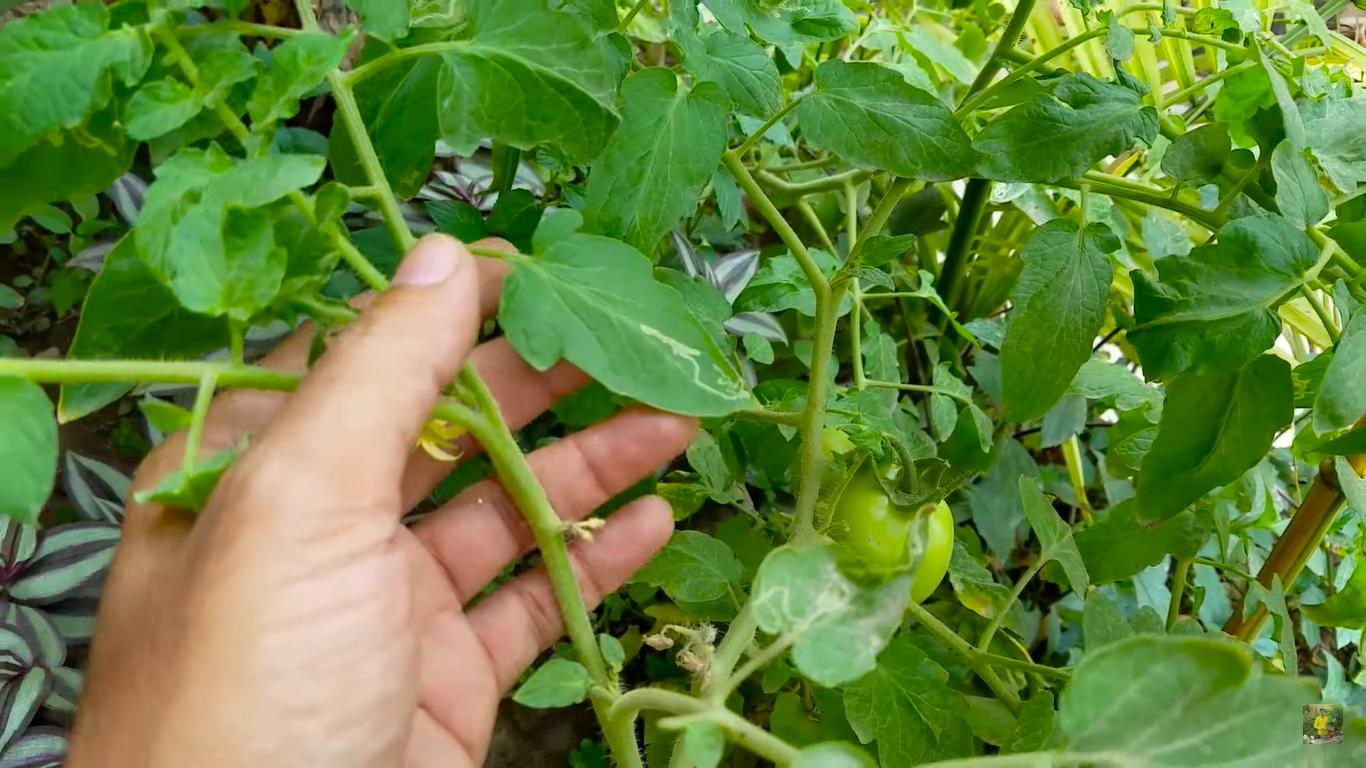Healthy: (1125, 210, 1322, 386), (434, 0, 631, 165), (580, 61, 736, 255), (0, 0, 154, 174), (996, 215, 1120, 425), (796, 58, 990, 182), (973, 70, 1159, 183), (1160, 121, 1232, 191)
Leaf_Miner: (496, 205, 769, 421), (753, 536, 915, 689), (42, 113, 123, 159)
